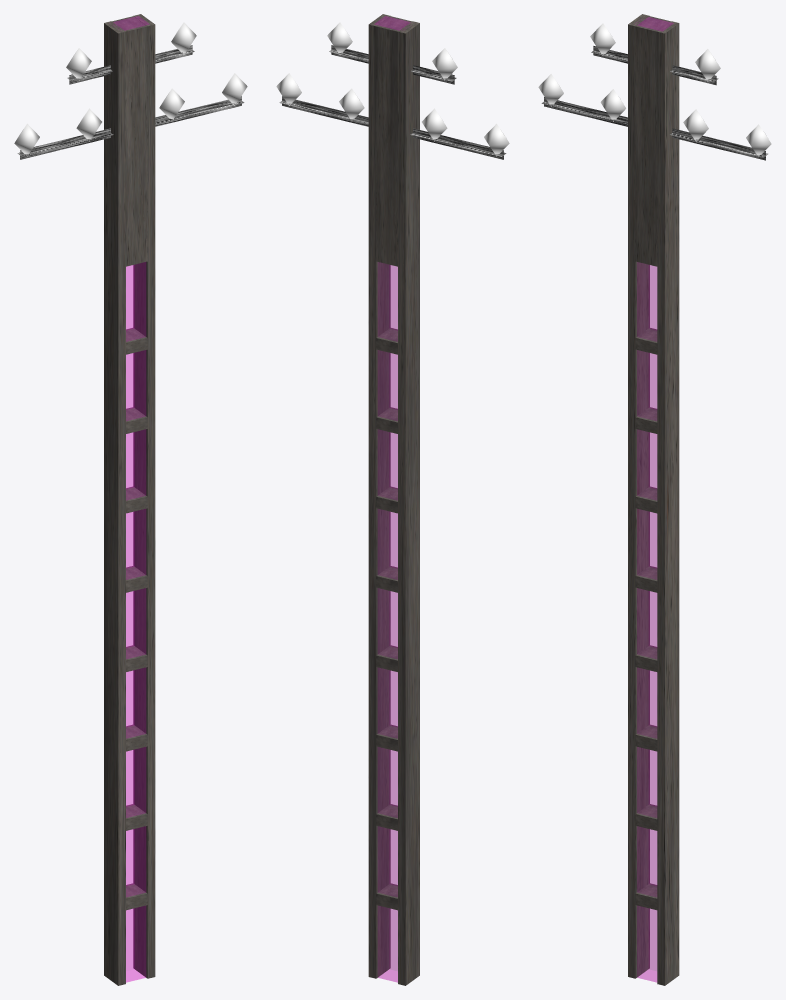
The picture shows the model from 3 angles, left to right: view 1: azimuth 30°, elevation 25°; view 2: azimuth 150°, elevation 25°; view 3: azimuth 330°, elevation 25°; orthographic projection.
Visible parts, largest first — view 1: MeshInstance3D2_1, Pole_0, col_block_01, MeshInstance3D11_10, MeshInstance3D_11, MeshInstance3D12_12, MeshInstance3D122_17; view 2: MeshInstance3D2_1, Pole_0, col_block_01, MeshInstance3D11_10, MeshInstance3D_11, MeshInstance3D12_12, MeshInstance3D122_17; view 3: Pole_0, MeshInstance3D2_1, col_block_01, MeshInstance3D11_10, MeshInstance3D_11, MeshInstance3D122_17, MeshInstance3D12_12.
Boxes of the visible parts, x1,y1,x2,y2 form: MeshInstance3D2_1: [104, 21, 125, 985]; Pole_0: [133, 14, 155, 978]; col_block_01: [113, 16, 148, 982]; MeshInstance3D11_10: [112, 16, 147, 266]; MeshInstance3D_11: [20, 96, 241, 159]; MeshInstance3D12_12: [17, 101, 244, 156]; MeshInstance3D122_17: [69, 45, 192, 84]; MeshInstance3D2_1: [398, 21, 419, 985]; Pole_0: [368, 14, 390, 978]; col_block_01: [375, 16, 410, 982]; MeshInstance3D11_10: [376, 16, 411, 266]; MeshInstance3D_11: [282, 96, 503, 159]; MeshInstance3D12_12: [279, 101, 506, 156]; MeshInstance3D122_17: [331, 45, 454, 84]; Pole_0: [657, 21, 679, 985]; MeshInstance3D2_1: [628, 14, 649, 978]; col_block_01: [637, 17, 673, 982]; MeshInstance3D11_10: [635, 16, 670, 266]; MeshInstance3D_11: [544, 97, 765, 160]; MeshInstance3D122_17: [593, 46, 716, 85]; MeshInstance3D12_12: [541, 101, 767, 157].
Size of the model in its own units: 3.08 by 12 by 0.342.
Materials: 9 (2 with a texture image).
